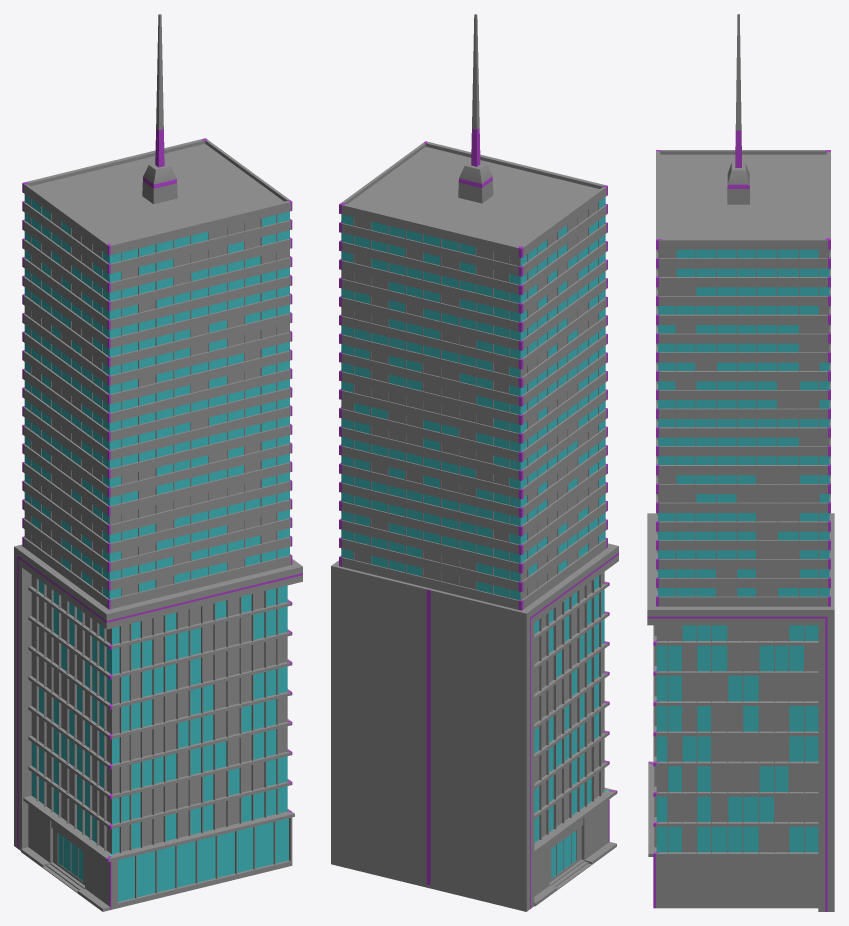
The model's file is buildings_L_01_var2.fbx.
3 renders of one model, left to right at view 1: azimuth 30°, elevation 25°; view 2: azimuth 150°, elevation 25°; view 3: azimuth 270°, elevation 25°, orthographic.
Visible parts, largest first — view 1: buildings_L_01_VAR2; view 2: buildings_L_01_VAR2; view 3: buildings_L_01_VAR2.
Part boxes in pixels (<box>): buildings_L_01_VAR2: <box>14,14,302,911</box>; buildings_L_01_VAR2: <box>331,14,618,911</box>; buildings_L_01_VAR2: <box>647,14,834,911</box>.
Size of the model in its own units: 19.05 by 77.75 by 15.52.
